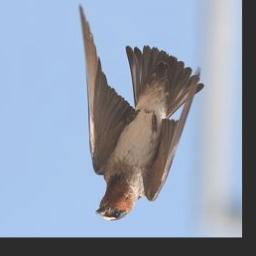Swallow: (79, 4, 204, 223)
